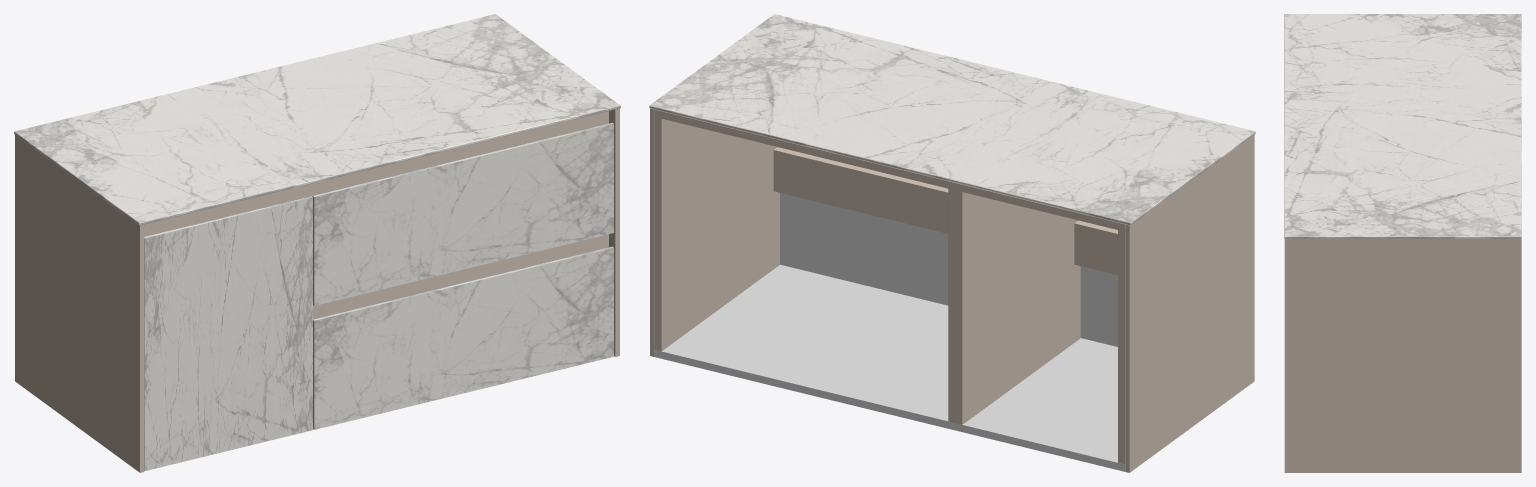
The picture shows the model from 3 angles, left to right: view 1: azimuth 30°, elevation 25°; view 2: azimuth 150°, elevation 25°; view 3: azimuth 270°, elevation 25°; orthographic projection. The views are drawn at different scales.
Parts seen in each view (by area): view 1: EL06; view 2: EL06; view 3: EL06.
Boxes of the visible parts, left/top/right/bottom form: EL06: left=14, top=14, right=620, bottom=472; EL06: left=649, top=14, right=1255, bottom=472; EL06: left=1284, top=14, right=1521, bottom=472.
Bounding box in the file's own units: 1.1 × 0.546 × 0.4961.
Materials: 4 (1 with a texture image).
